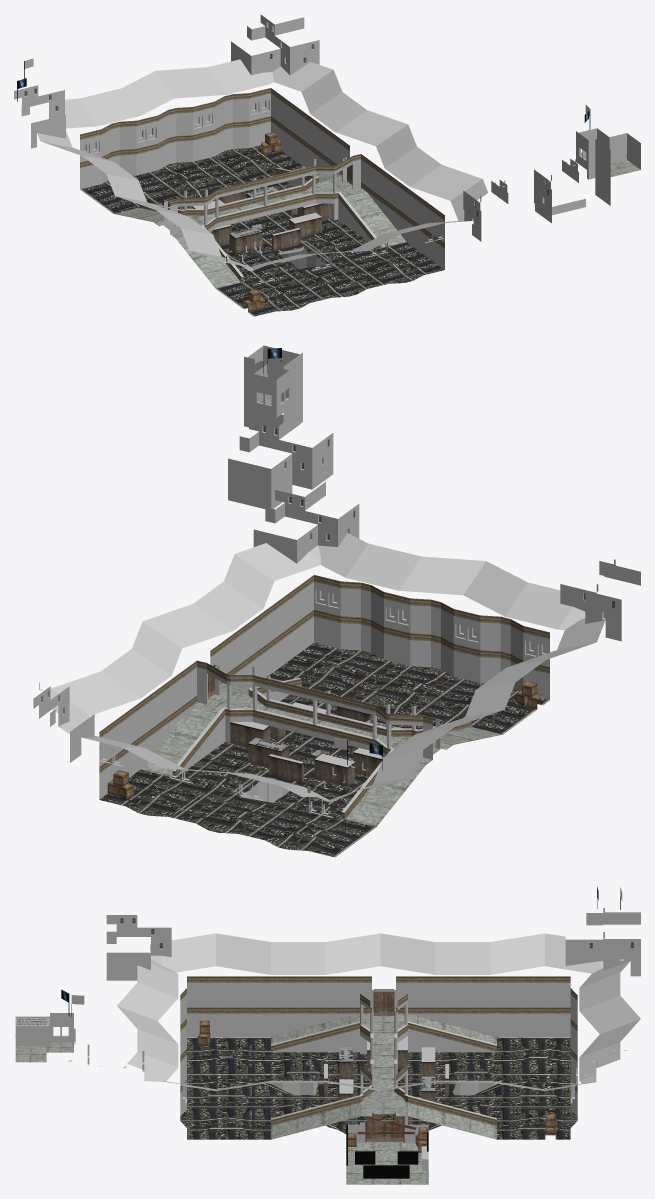
Rendered from aim_dgl_old.gltf.
3 views of the same model, one above another, from view 1: azimuth 30°, elevation 25°; view 2: azimuth 150°, elevation 25°; view 3: azimuth 270°, elevation 25° (orthographic). The views are drawn at different scales.
Parts seen in each view (by area): view 1: *0; view 2: *0; view 3: *0, *5.
Part boxes in pixels (x1,y1,x2,y2): *0: (14, 14, 640, 316); *0: (33, 345, 640, 857); *0: (15, 908, 640, 1184); *5: (346, 1124, 428, 1178).
Size of the model in its own units: 64.56 by 37.08 by 87.84.
